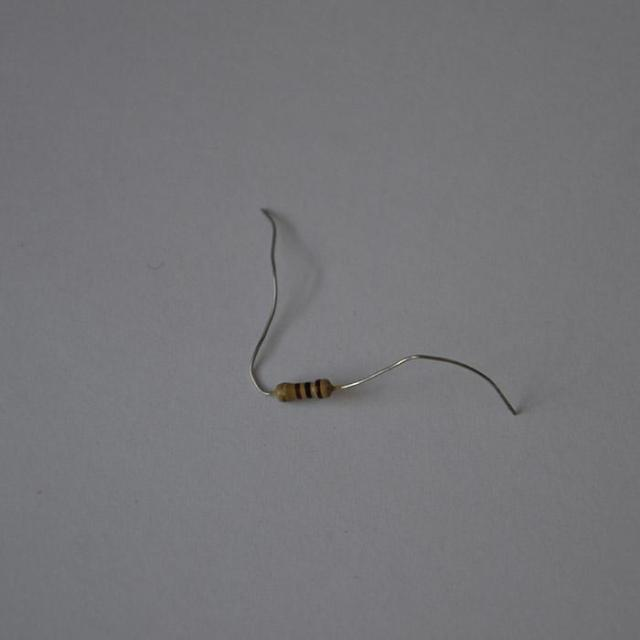Resistor: (249, 209, 516, 414)
